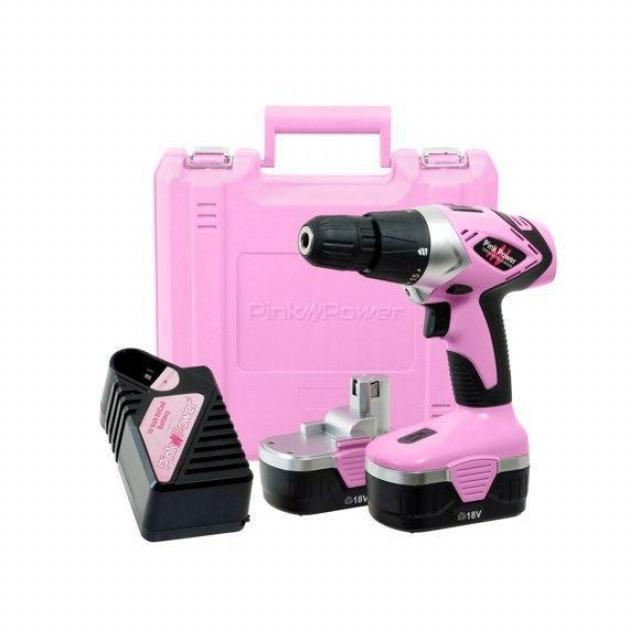drill: (297, 203, 559, 533), (260, 373, 393, 516)
